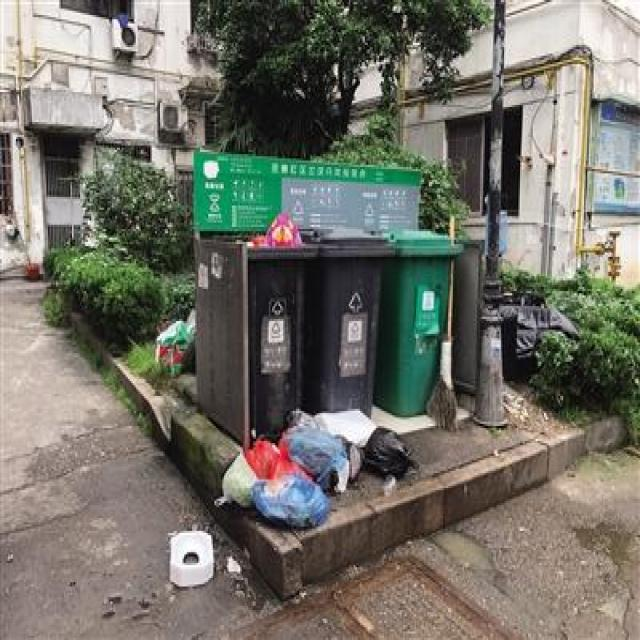garbage: (166, 406, 420, 588), (154, 306, 194, 375)
garbage_bin: (301, 221, 395, 413), (376, 227, 462, 413)
overflow: (246, 208, 317, 441)
